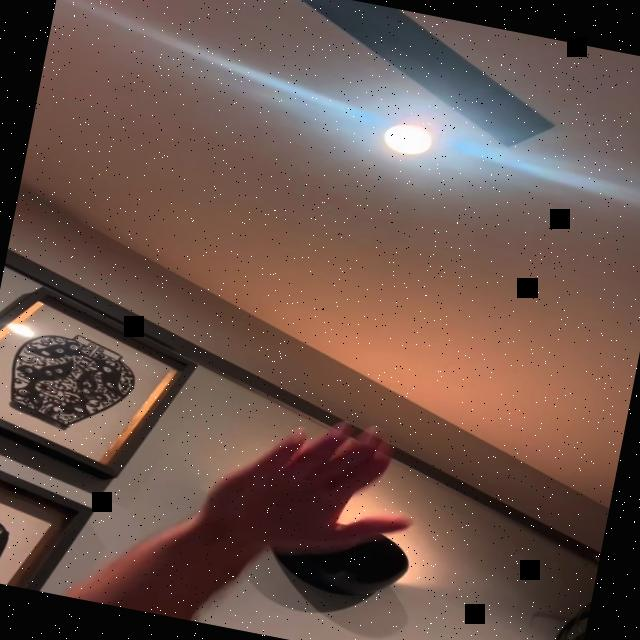Paper: (190, 398, 428, 580)
